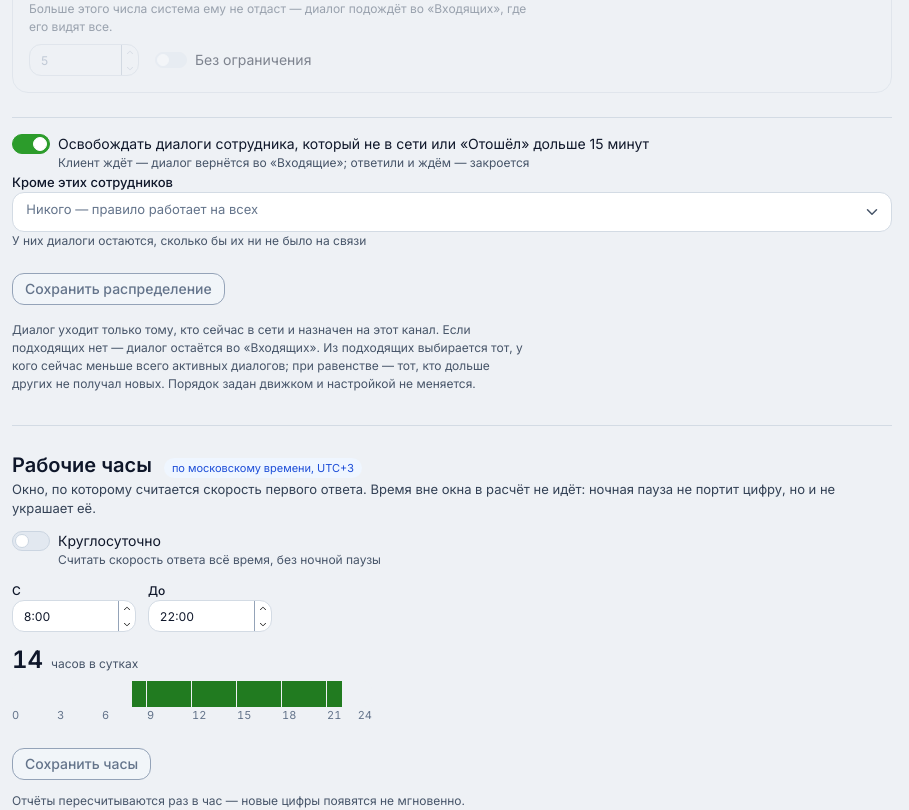
Распределение: адаптивность и иерархия › пустое поле — это «—», а не ноль
(page scrolled)
Clear the field named "Начало рабочего дня, час по Москве" at (74, 616), box [12,600,136,632]
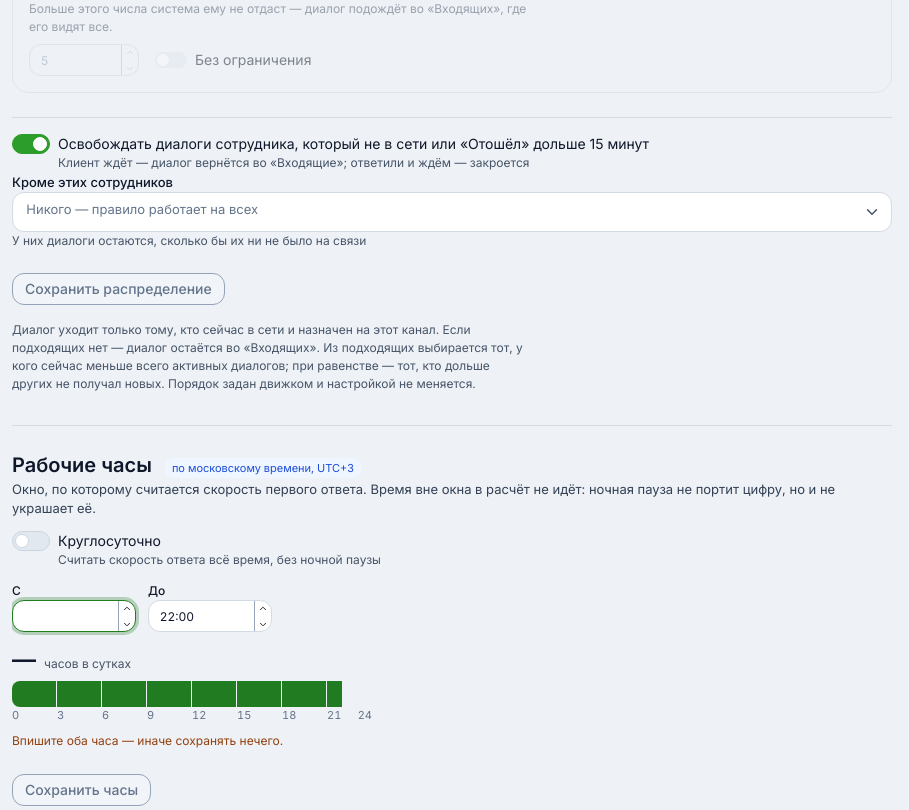
Now the text with class "dist__len-num" reads "—", box [12,645,36,674]
